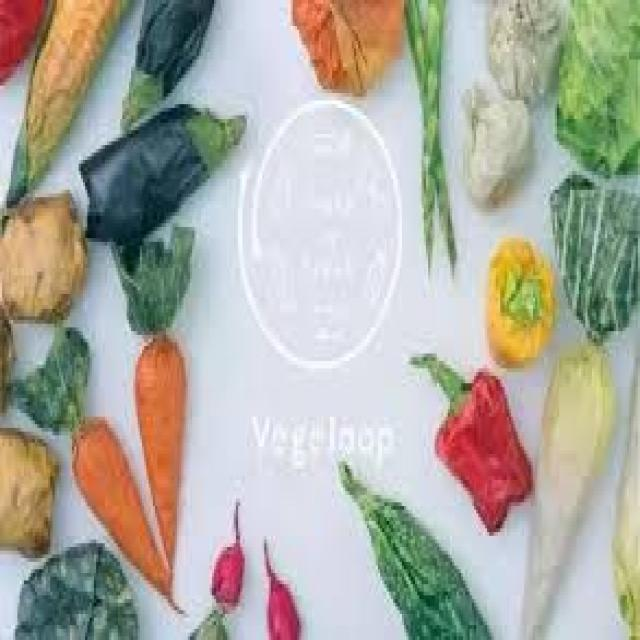food_waste: (0, 0, 238, 610), (465, 0, 638, 636), (291, 0, 454, 275), (341, 461, 483, 636), (408, 353, 529, 532), (15, 543, 138, 636), (485, 234, 557, 365), (612, 353, 638, 636), (0, 428, 57, 554), (190, 502, 242, 636), (264, 543, 297, 636)
